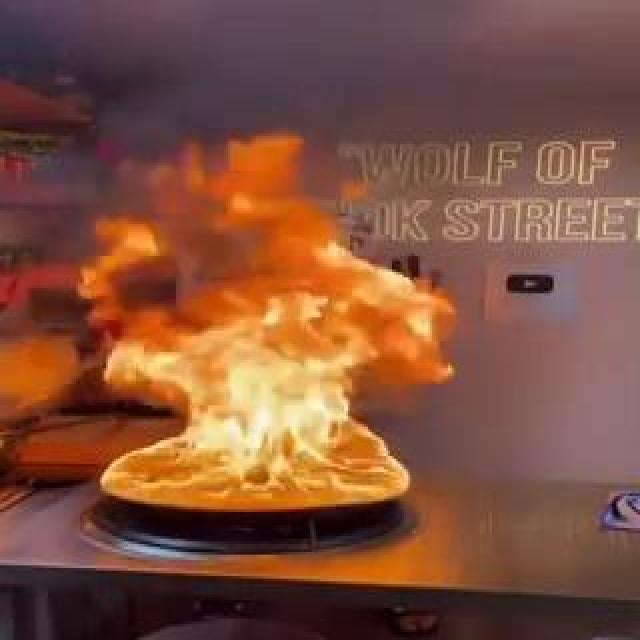Fire: (67, 176, 425, 517)
